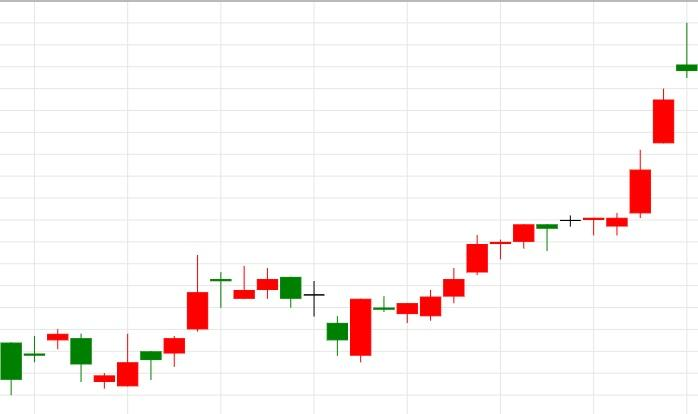bullish_engulfing_rise: (256, 268, 372, 362)
